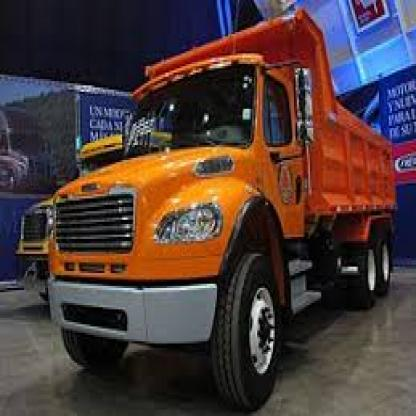dump_truck: (38, 6, 414, 408)
